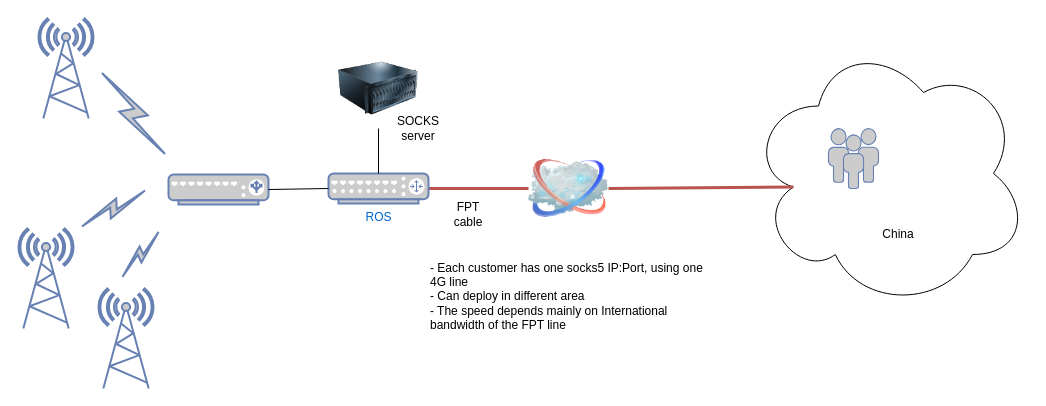
This 1046x406 diagram has some shape labels left out. Each missing label, with the centre of its shape:
Internet: point (568, 188)
USB Hub Multiple 4G USB/4G modems: point (218, 189)
